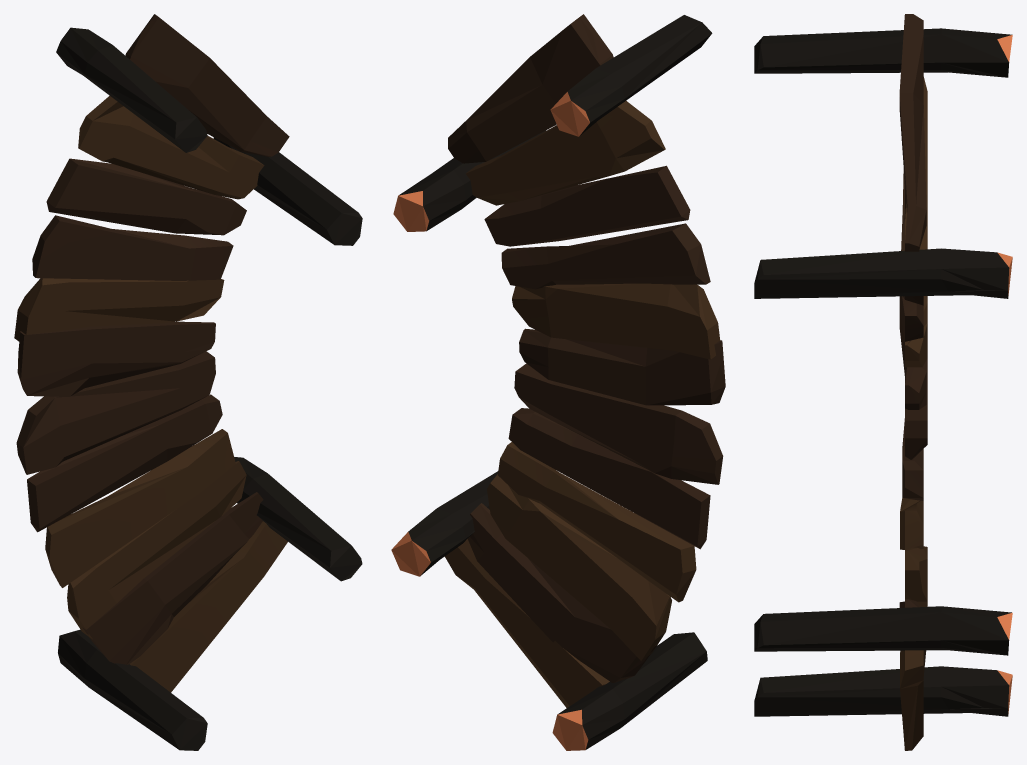
Rendered from Pontoon_03.FBX.
The picture shows the model from 3 angles, left to right: view 1: azimuth 30°, elevation 25°; view 2: azimuth 150°, elevation 25°; view 3: azimuth 270°, elevation 25°; orthographic projection. The views are drawn at different scales.
Parts seen in each view (by area): view 1: Pontoon_03; view 2: Pontoon_03; view 3: Pontoon_03.
Part boxes in pixels (x1,y1,x2,y2): Pontoon_03: [14, 14, 362, 750]; Pontoon_03: [391, 14, 725, 750]; Pontoon_03: [754, 14, 1012, 750].
Size of the model in its own units: 2.72 by 6.49 by 2.06.
